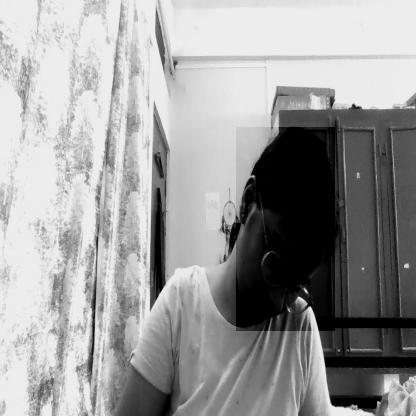Distracted: (236, 127, 335, 331)
